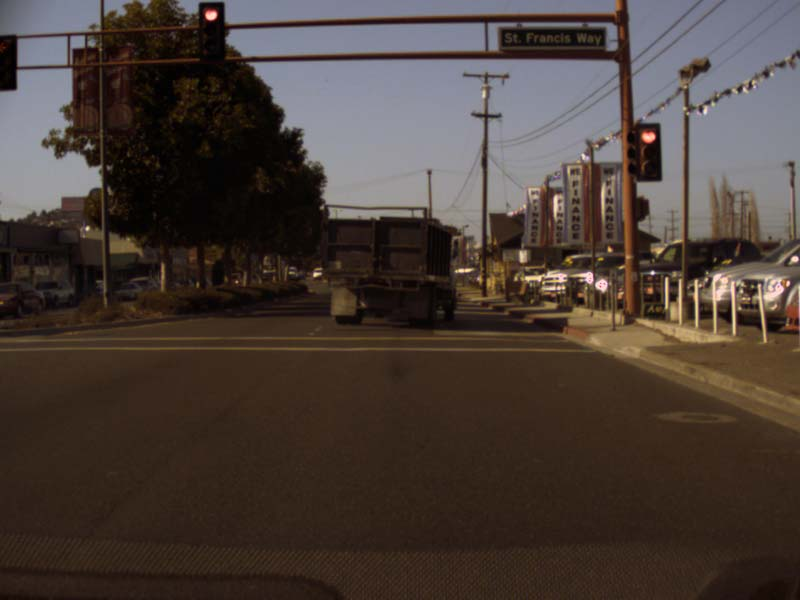Red: (635, 123, 662, 181), (199, 2, 224, 58)
